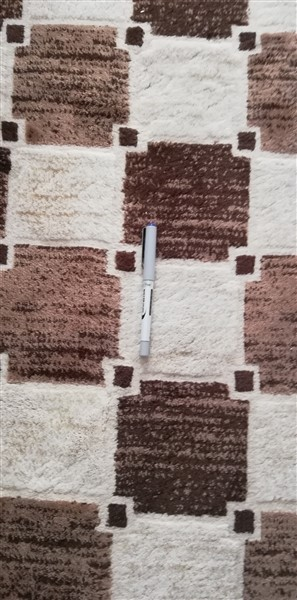pilot kalem: (131, 223, 168, 361)
